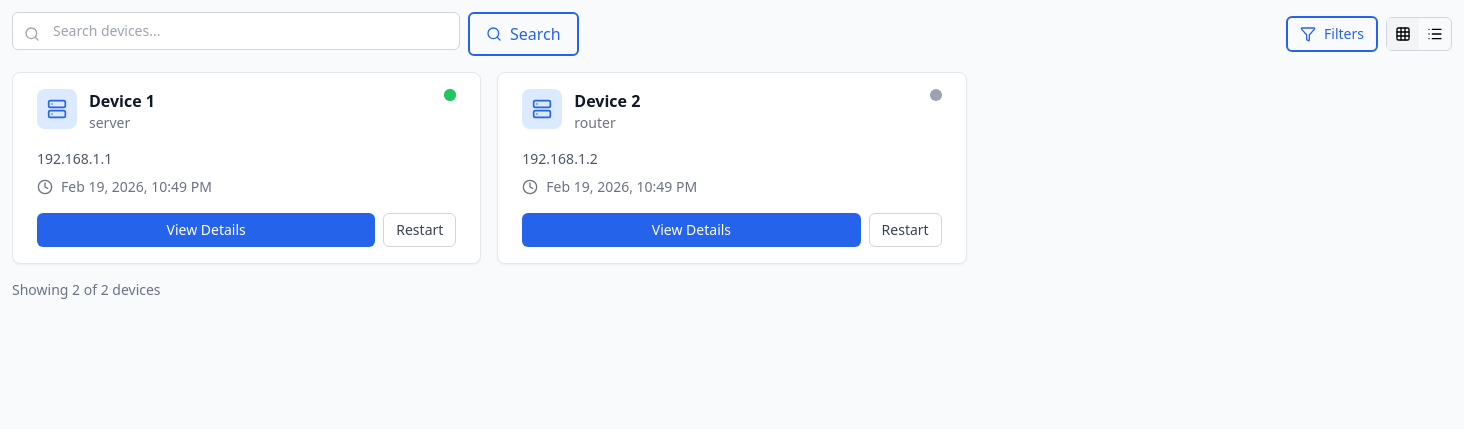
it: DeviceList › handles filter change with status
Click the button "Filters": {"x": 1332, "y": 34} [1286,16,1378,52]
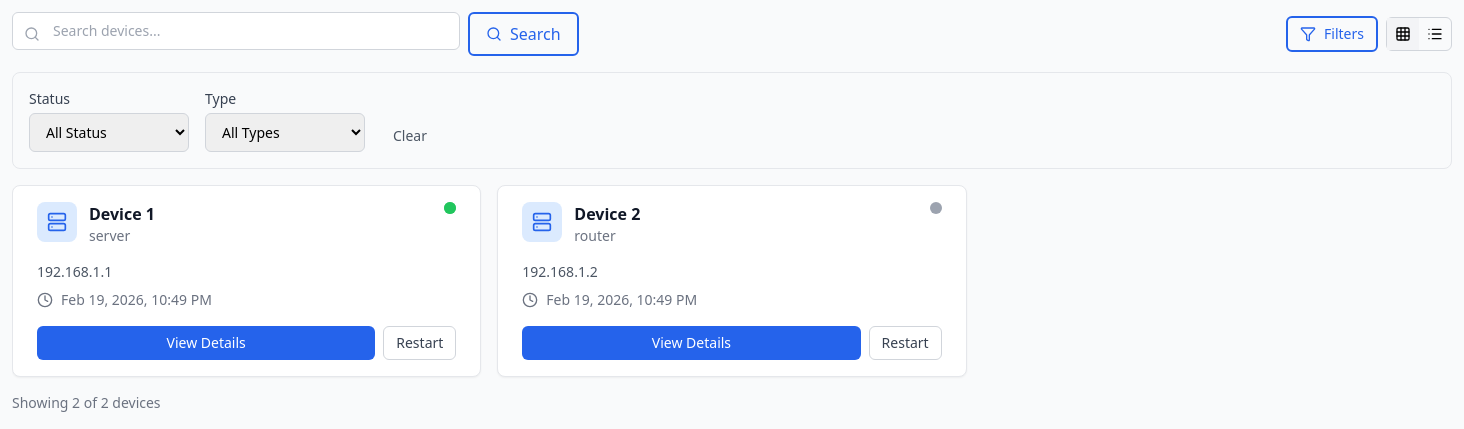
Select "Online" in the dropdown labelled "Status": {"x": 109, "y": 132} [29,113,189,152]
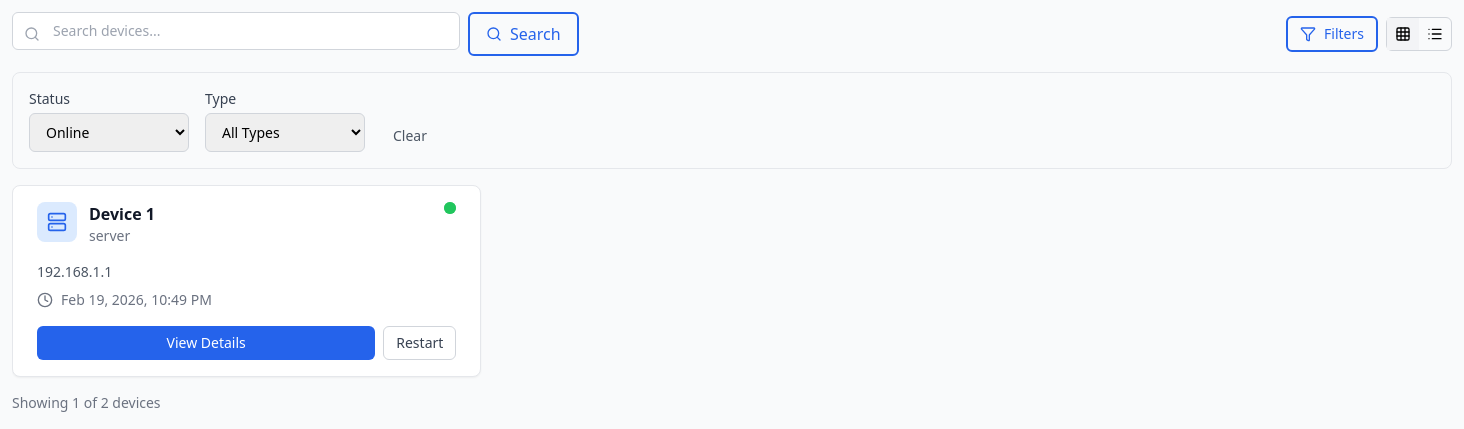
Now the text "Showing 1 of 2 devices" is shown, box [12,393,161,412]
